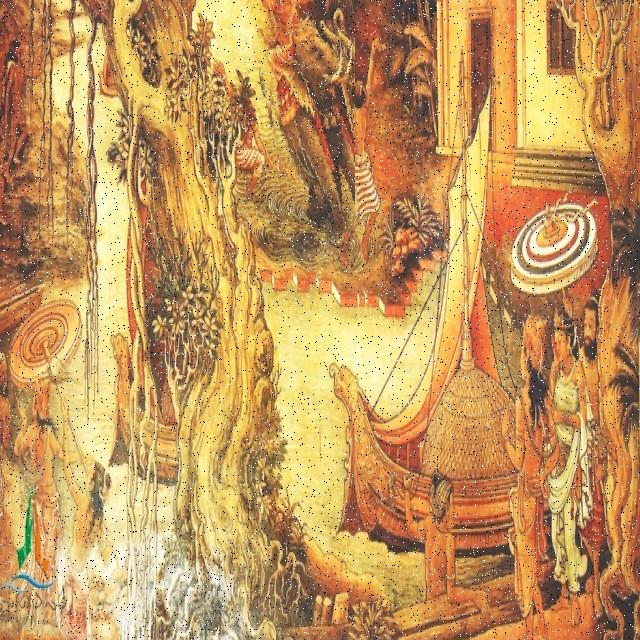elephant: (263, 21, 355, 233)
